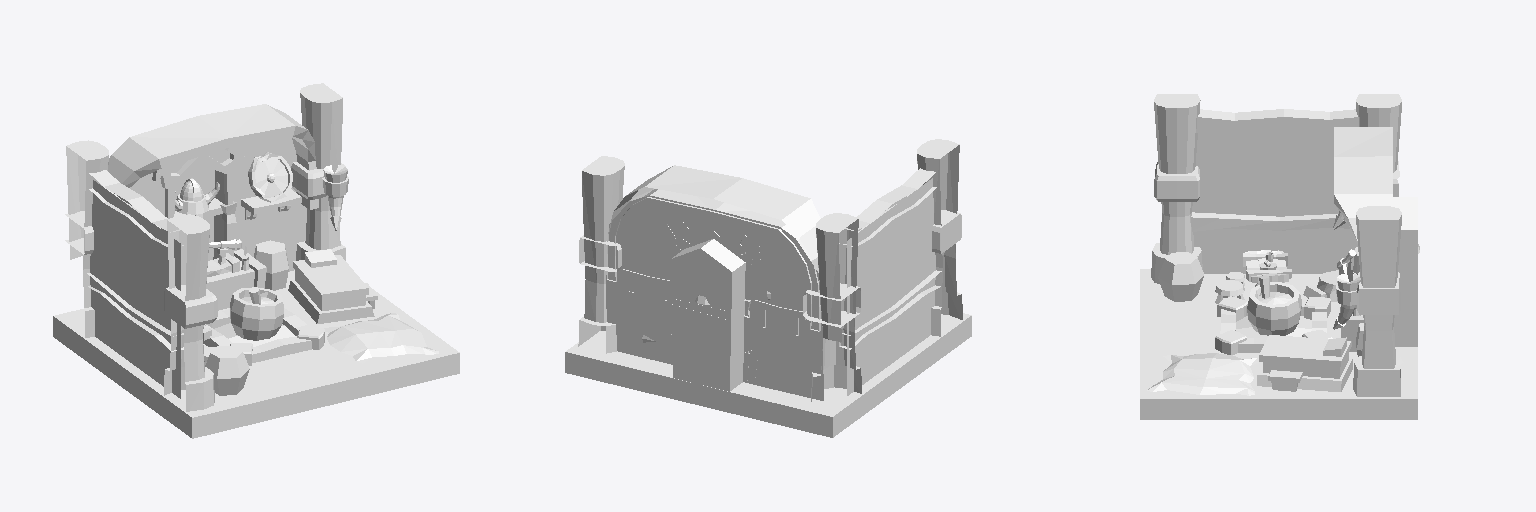
Rendered from viking_room.obj.
The picture shows the model from 3 angles: view 1: azimuth 30°, elevation 25°; view 2: azimuth 150°, elevation 25°; view 3: azimuth 270°, elevation 25°; orthographic projection.
Parts seen in each view (by area): view 1: mesh_all1_Mesh; view 2: mesh_all1_Mesh; view 3: mesh_all1_Mesh.
Part boxes in pixels (left/top/right/bottom): mesh_all1_Mesh: left=53, top=83, right=459, bottom=438; mesh_all1_Mesh: left=565, top=139, right=971, bottom=437; mesh_all1_Mesh: left=1140, top=94, right=1419, bottom=419.
Bounding box in the file's own units: 2.89 × 2.05 × 2.63.